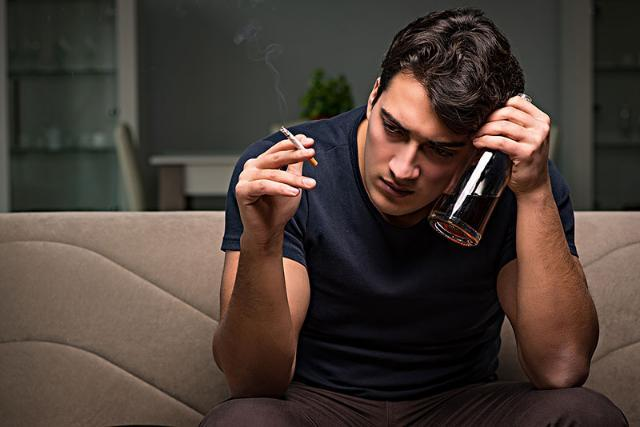Smoking: (280, 124, 322, 166)
